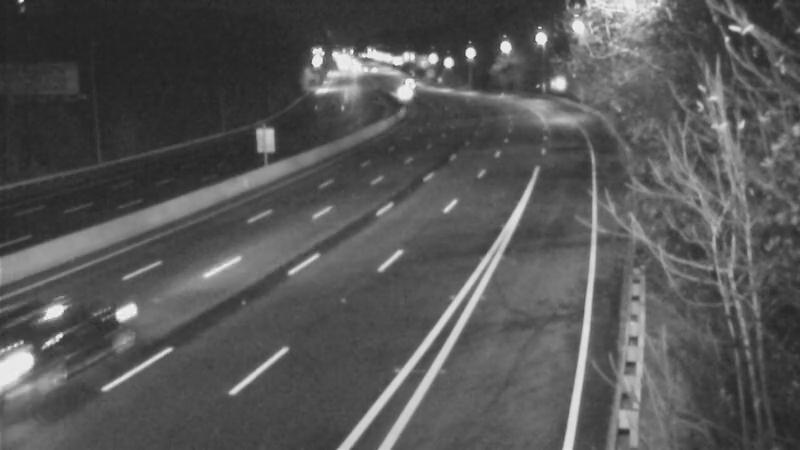vehicle: (4, 290, 114, 400), (384, 58, 434, 108), (372, 69, 422, 119)
